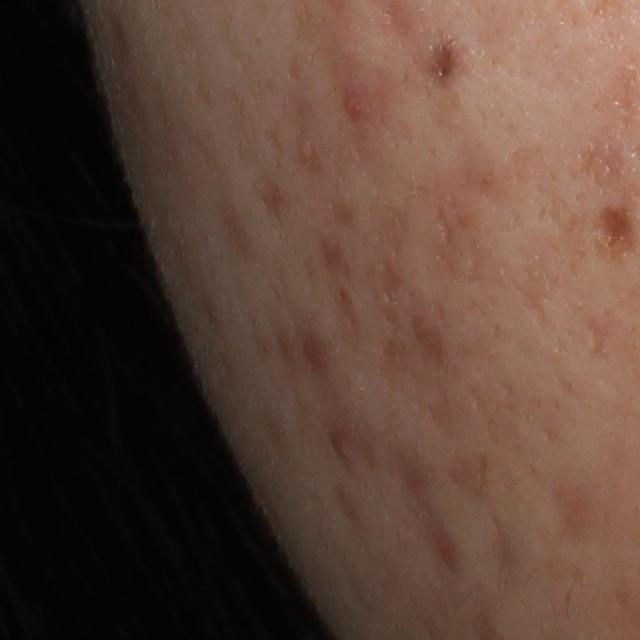atrophic_scar: (388, 452, 466, 577), (404, 302, 455, 368), (427, 190, 485, 247), (574, 136, 629, 196), (310, 227, 356, 283), (362, 256, 413, 305), (248, 172, 287, 225), (594, 201, 634, 250), (583, 314, 619, 362)
papule: (336, 79, 368, 131), (331, 434, 352, 462)
